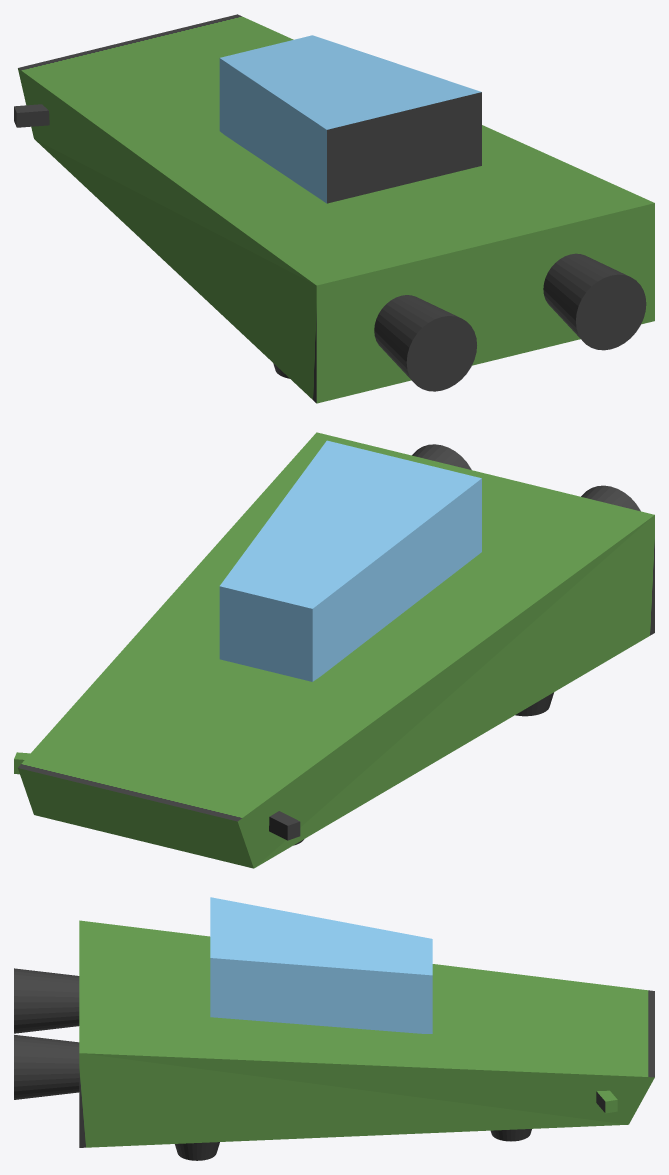
File: Player.obj
3 views of the same model, one above another, from view 1: azimuth 30°, elevation 25°; view 2: azimuth 150°, elevation 25°; view 3: azimuth 270°, elevation 25° (orthographic). The views are drawn at different scales.
Visible parts, largest first — view 1: Hover_Tank_Chassis; view 2: Hover_Tank_Chassis; view 3: Hover_Tank_Chassis.
Boxes of the visible parts, left/top/right/bottom form: Hover_Tank_Chassis: left=14, top=14, right=654, bottom=403; Hover_Tank_Chassis: left=14, top=432, right=654, bottom=868; Hover_Tank_Chassis: left=14, top=897, right=654, bottom=1160.
Bounding box in the file's own units: 2.4 × 1.53 × 4.9.
1 material, 1 textured.
